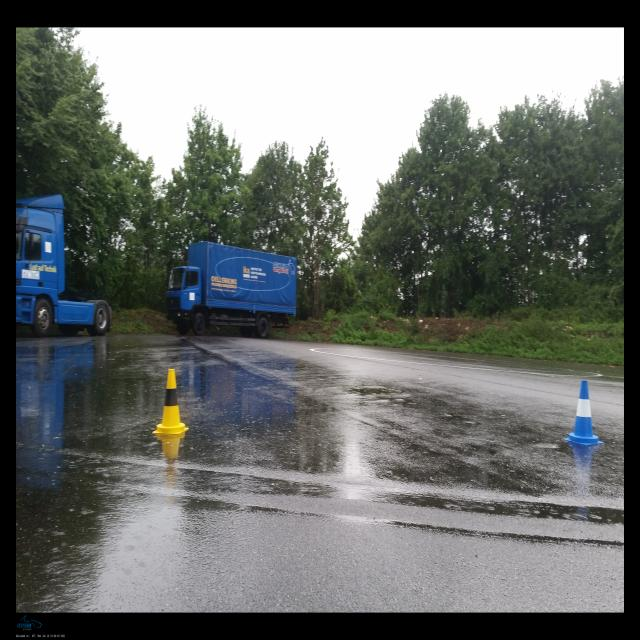blue_cone: (564, 380, 605, 446)
yellow_cone: (152, 370, 189, 434)
